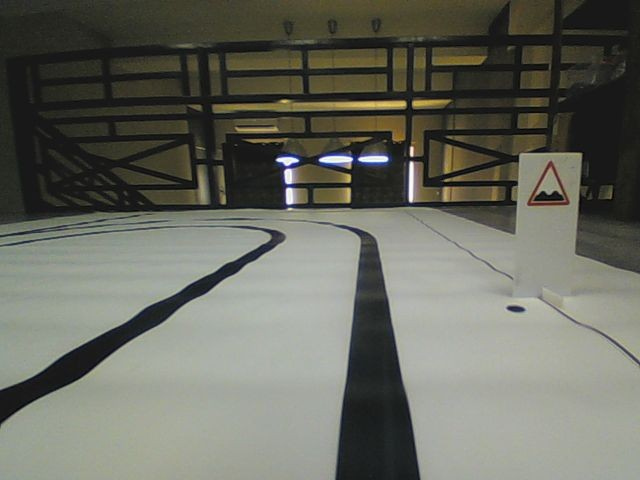Nerov: (524, 159, 571, 208)
